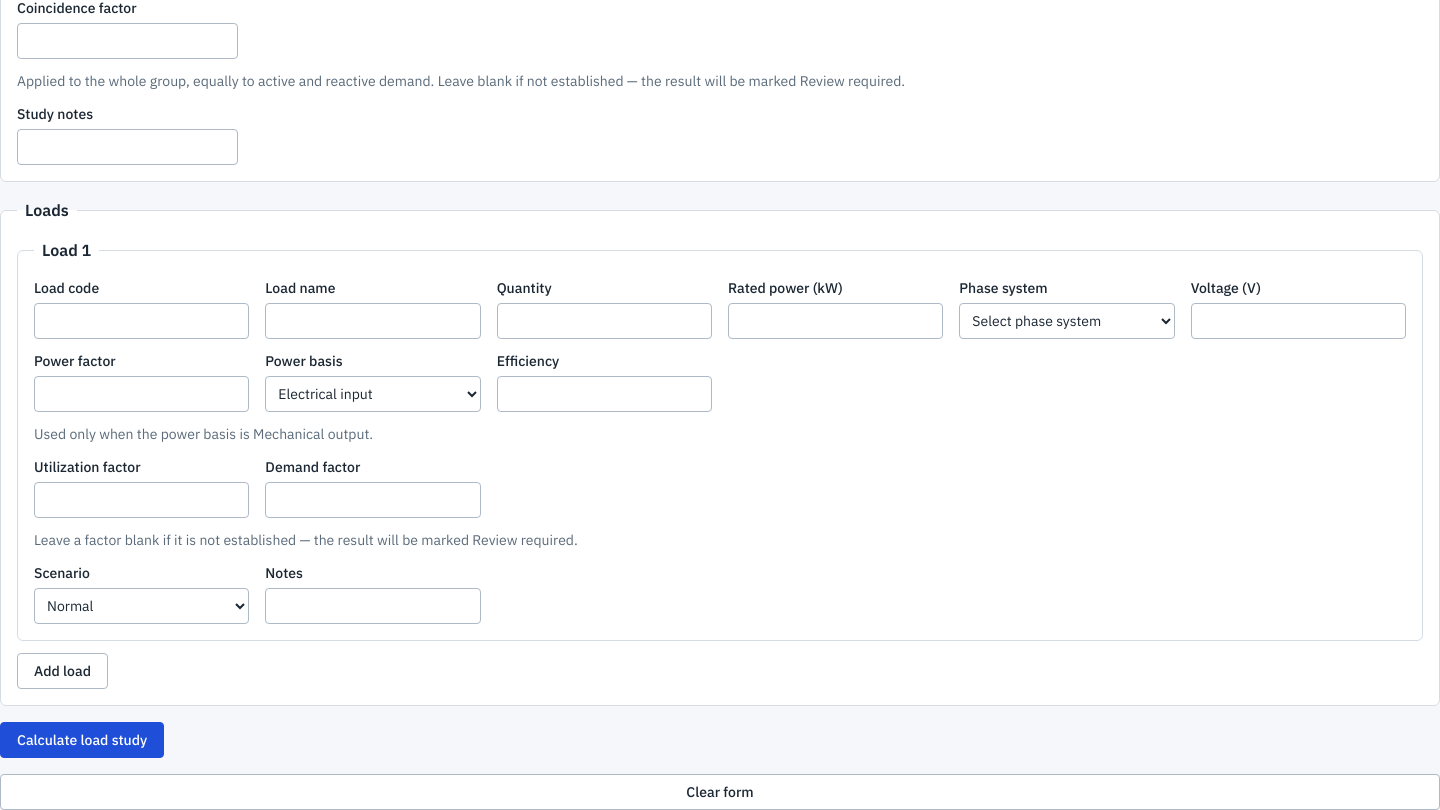
Test: LoadStudyForm › adds a load, makes both removable, and moves the cursor to the new row
(page scrolled)
Click the button "Add load": [62, 671] box [17,653,108,689]
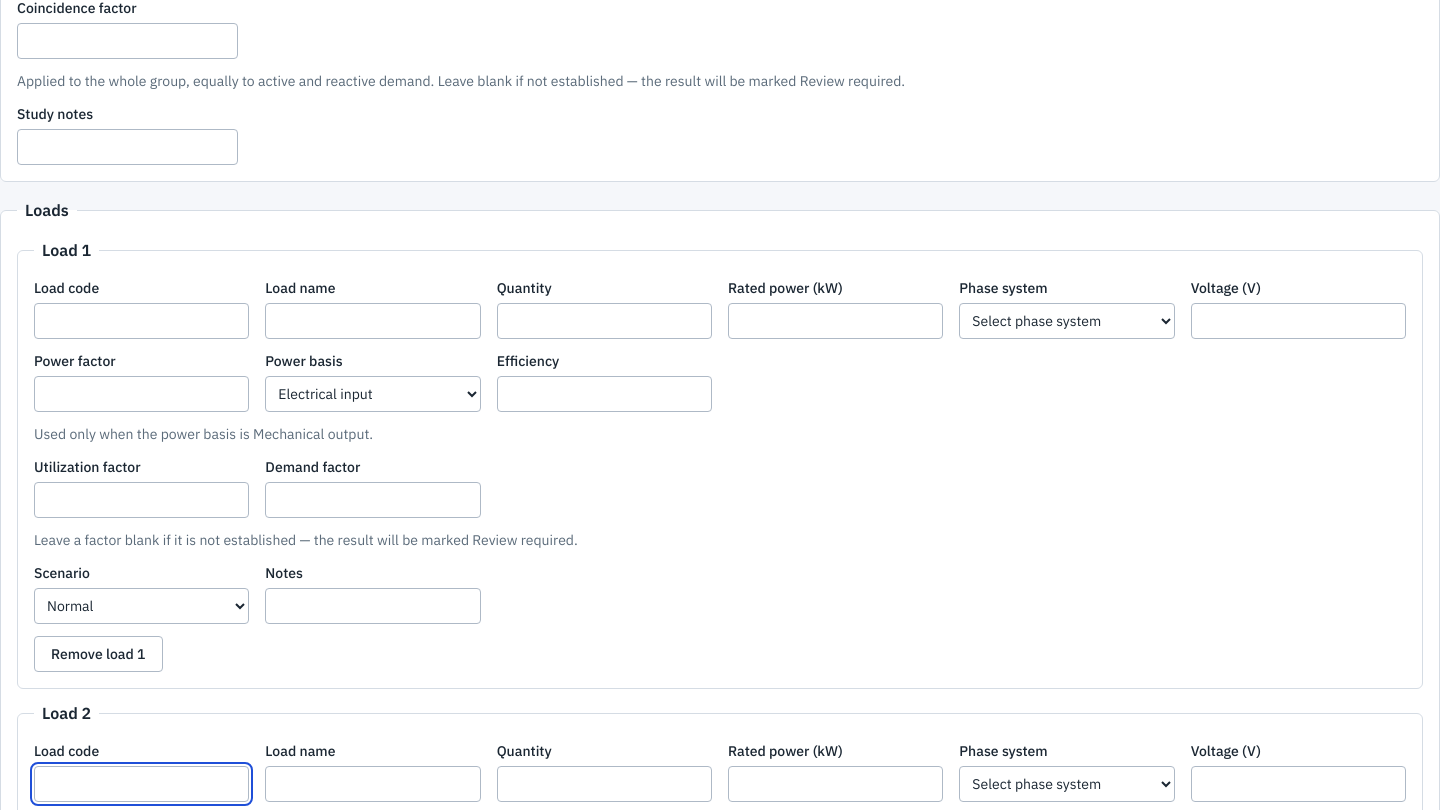
Result: the button "Remove load 1" is shown at [34,636,162,672]
